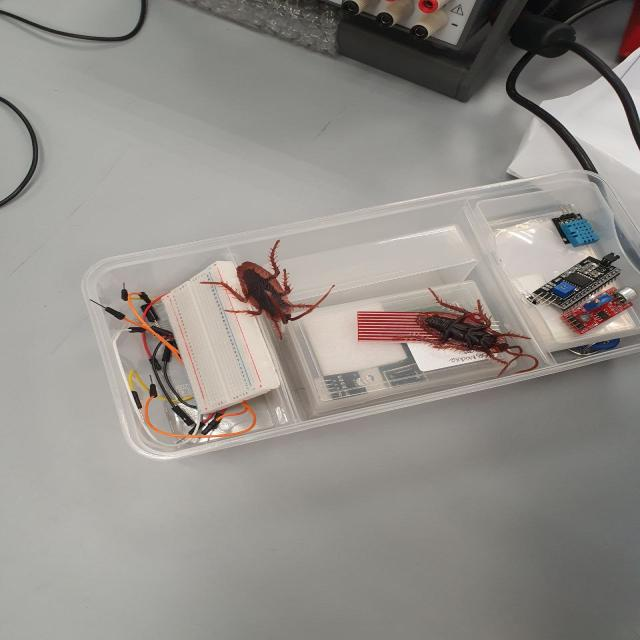Cockroach: (401, 278, 539, 386), (200, 239, 328, 333)
